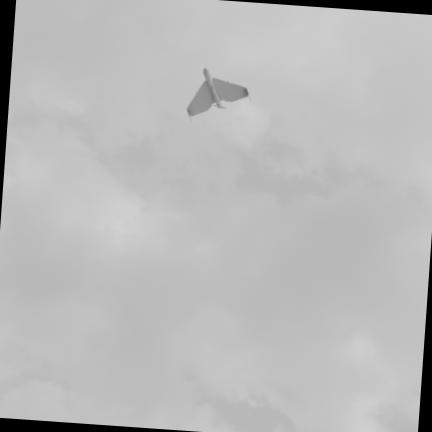Shahed: (188, 68, 246, 116)
